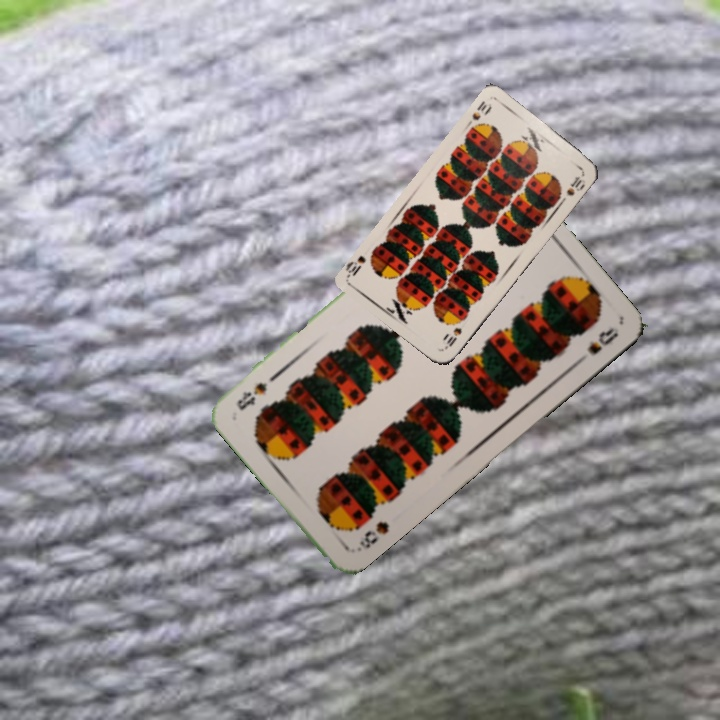S10: (462, 97, 494, 130), (440, 323, 465, 352)
S8: (352, 516, 392, 555)
